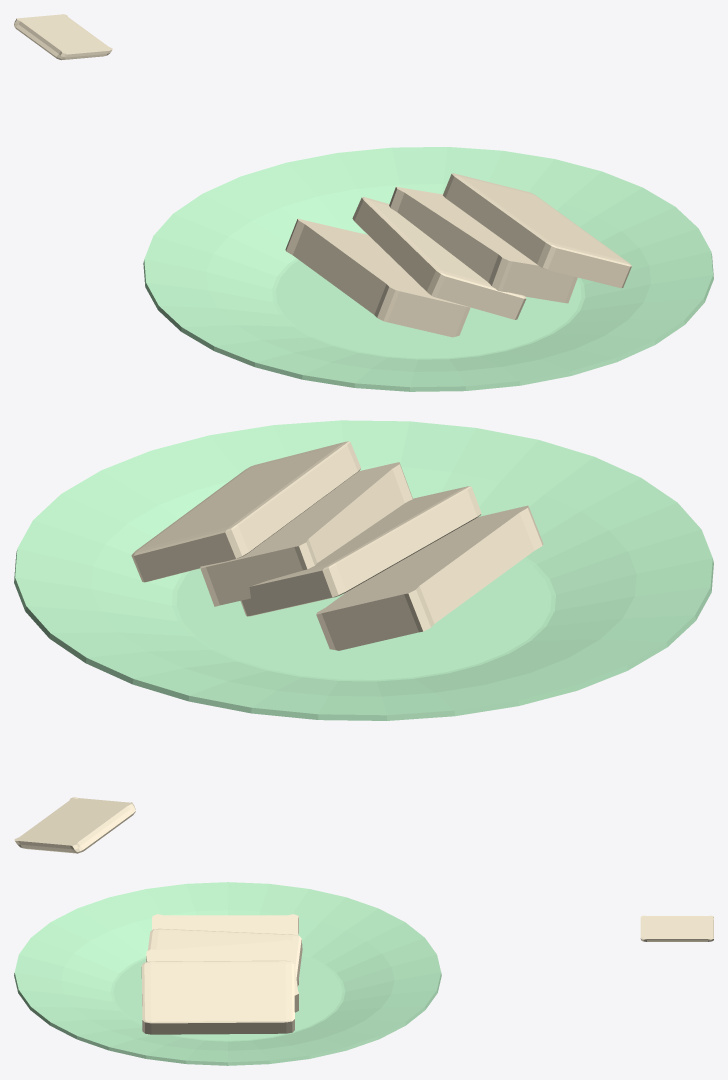
File: trimmed_tofu.fbx
3 views of the same model, one above another, from view 1: azimuth 30°, elevation 25°; view 2: azimuth 150°, elevation 25°; view 3: azimuth 270°, elevation 25° (orthographic). The views are drawn at different scales.
Parts seen in each view (by area): view 1: 원형.018, 큐브.015, 큐브.019, 큐브.017, 큐브.018, 큐브.014; view 2: 원형.018, 큐브.015, 큐브.019, 큐브.017, 큐브.018, 큐브.014; view 3: 원형.018, 큐브.019, 큐브.017, 큐브.015, 큐브.018, 큐브.014.
Boxes of the visible parts, x1,y1,x2,y2 form: 원형.018: [143, 147, 713, 391]; 큐브.015: [285, 218, 470, 337]; 큐브.019: [443, 173, 631, 288]; 큐브.017: [389, 186, 577, 303]; 큐브.018: [352, 197, 526, 319]; 큐브.014: [14, 14, 112, 60]; 원형.018: [14, 420, 713, 720]; 큐브.015: [316, 505, 543, 650]; 큐브.019: [131, 441, 360, 582]; 큐브.017: [200, 462, 412, 606]; 큐브.018: [240, 486, 481, 616]; 큐브.014: [14, 797, 135, 853]; 원형.018: [14, 882, 441, 1065]; 큐브.019: [141, 960, 294, 1034]; 큐브.017: [146, 939, 298, 1012]; 큐브.015: [152, 914, 298, 985]; 큐브.018: [148, 928, 302, 986]; 큐브.014: [640, 915, 713, 941].
Bounding box in the file's own units: 251 × 43.02 × 410.
